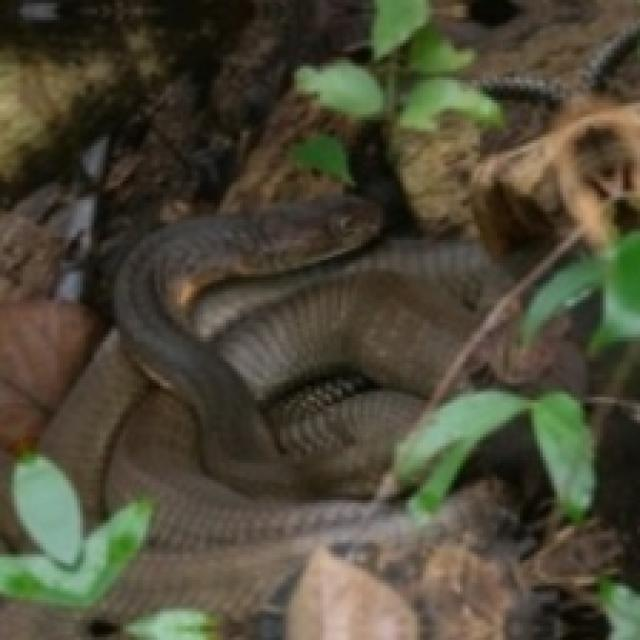king cobra: (114, 197, 489, 494)
